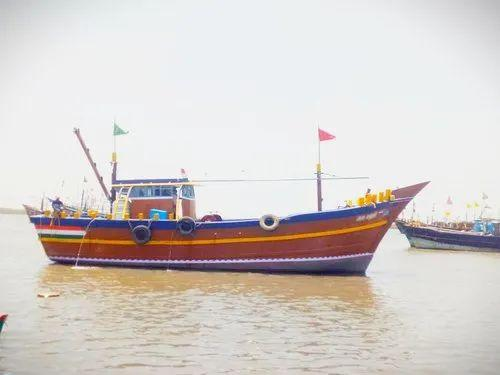fishing boat: (20, 115, 434, 280), (392, 192, 500, 254)
